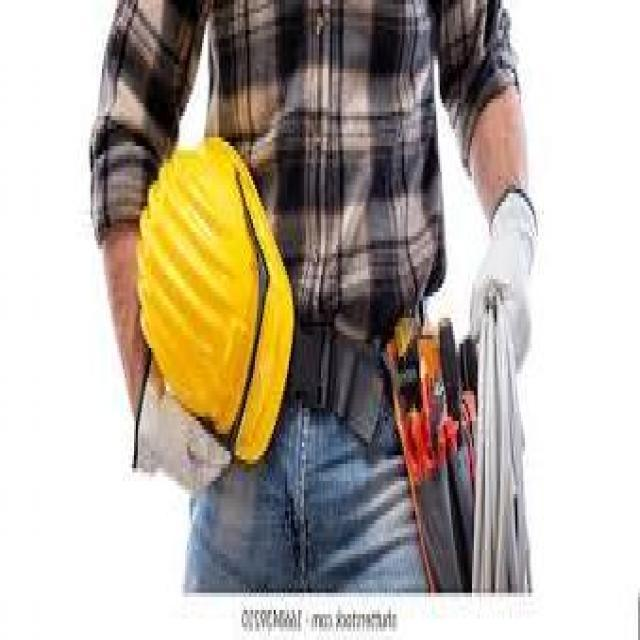reflective_jacket: (124, 120, 309, 481)
safety_helmet: (121, 120, 306, 468)
